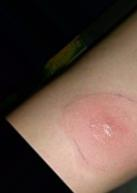Spider: (66, 94, 136, 174)
